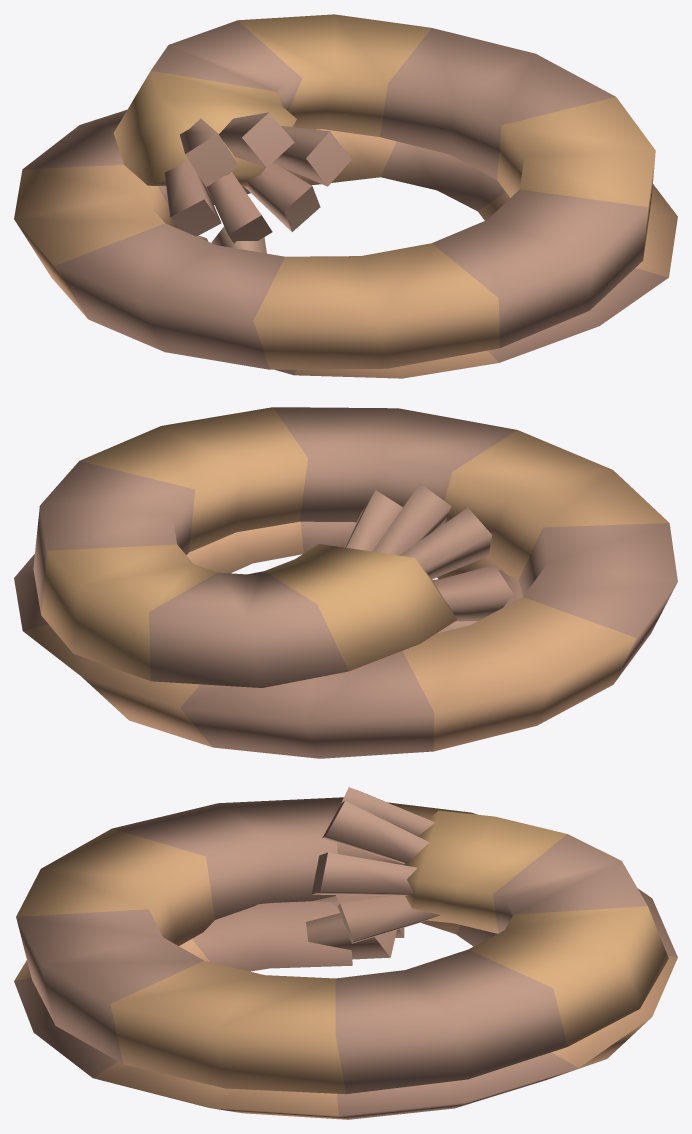
File: scarf.glb
3 views of the same model, one above another, from view 1: azimuth 30°, elevation 25°; view 2: azimuth 150°, elevation 25°; view 3: azimuth 270°, elevation 25° (orthographic).
Parts seen in each view (by area): view 1: scarf; view 2: scarf; view 3: scarf.
Boxes of the visible parts, x1=… form: scarf: x1=14, y1=14, x2=677, y2=378; scarf: x1=14, y1=407, x2=677, y2=758; scarf: x1=14, y1=787, x2=677, y2=1119.
Bounding box in the file's own units: 0.3627 × 0.1103 × 0.3579.
